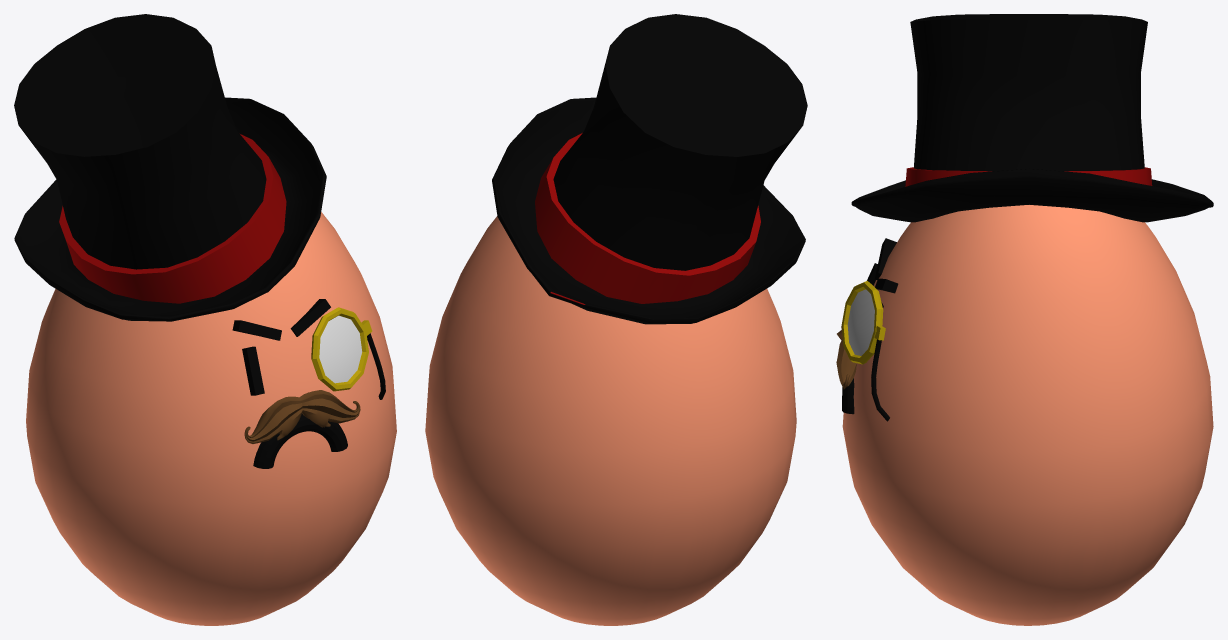
File: Huevo.fbx
The picture shows the model from 3 angles, left to right: view 1: azimuth 30°, elevation 25°; view 2: azimuth 150°, elevation 25°; view 3: azimuth 270°, elevation 25°; orthographic projection.
Parts seen in each view (by area): view 1: Huevón, Monocle, Torus, Sphere; view 2: Huevón; view 3: Huevón, Monocle, Torus, Sphere.
Boxes of the visible parts, bbox=[...] form: Huevón: bbox=[14, 14, 396, 625]; Monocle: bbox=[311, 307, 385, 399]; Torus: bbox=[232, 299, 347, 468]; Sphere: bbox=[244, 390, 360, 443]; Huevón: bbox=[425, 14, 807, 625]; Huevón: bbox=[842, 14, 1213, 625]; Monocle: bbox=[841, 280, 889, 421]; Torus: bbox=[842, 238, 898, 414]; Sphere: bbox=[836, 326, 856, 389].
Size of the model in its own units: 318 by 527 by 308.
